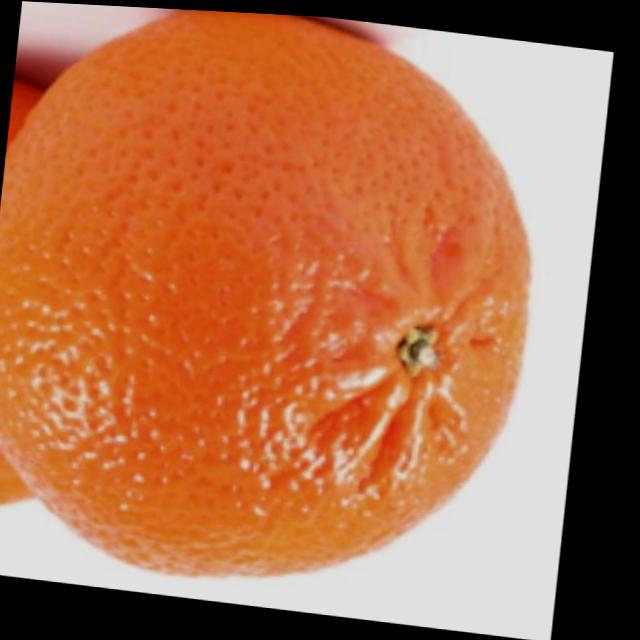Orange: (0, 0, 559, 613), (0, 74, 84, 525)
